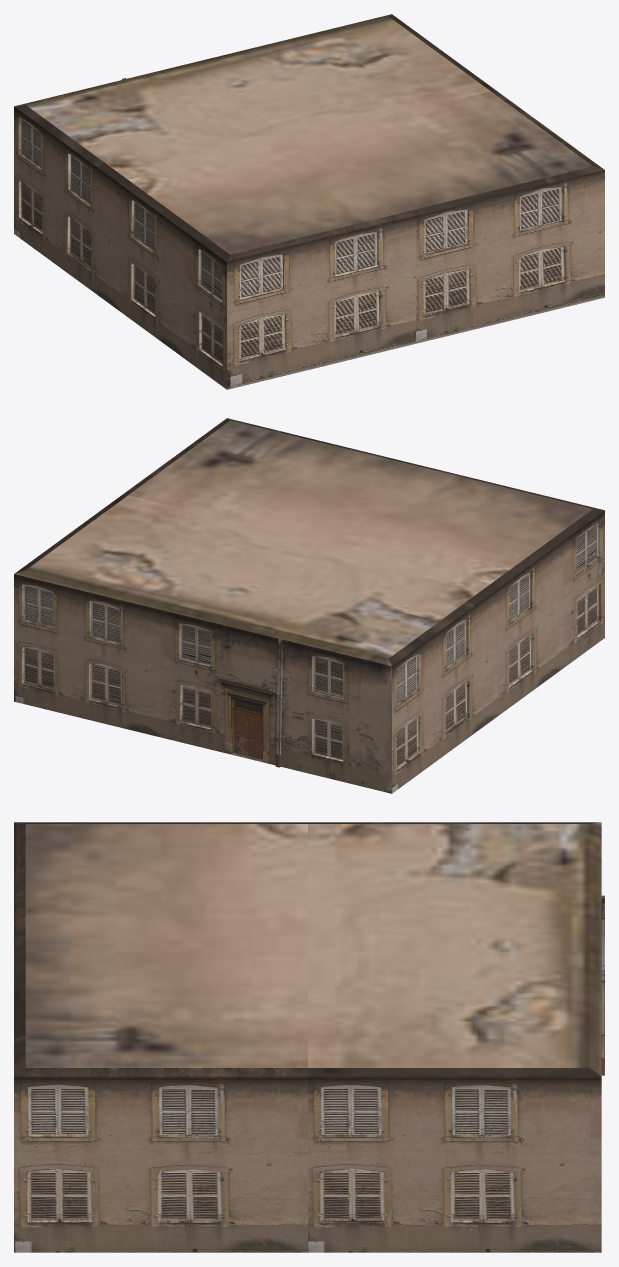
The model's file is Casa_3.fbx.
3 views of the same model, one above another, from view 1: azimuth 30°, elevation 25°; view 2: azimuth 150°, elevation 25°; view 3: azimuth 270°, elevation 25° (orthographic). The views are drawn at different scales.
Parts seen in each view (by area): view 1: Casa; view 2: Casa; view 3: Casa.
Part boxes in pixels (<box>): Casa: <box>14,14,604,389</box>; Casa: <box>14,418,604,793</box>; Casa: <box>14,822,604,1252</box>.
Size of the model in its own units: 15.95 by 15.66 by 5.25.
1 material, 1 textured.
